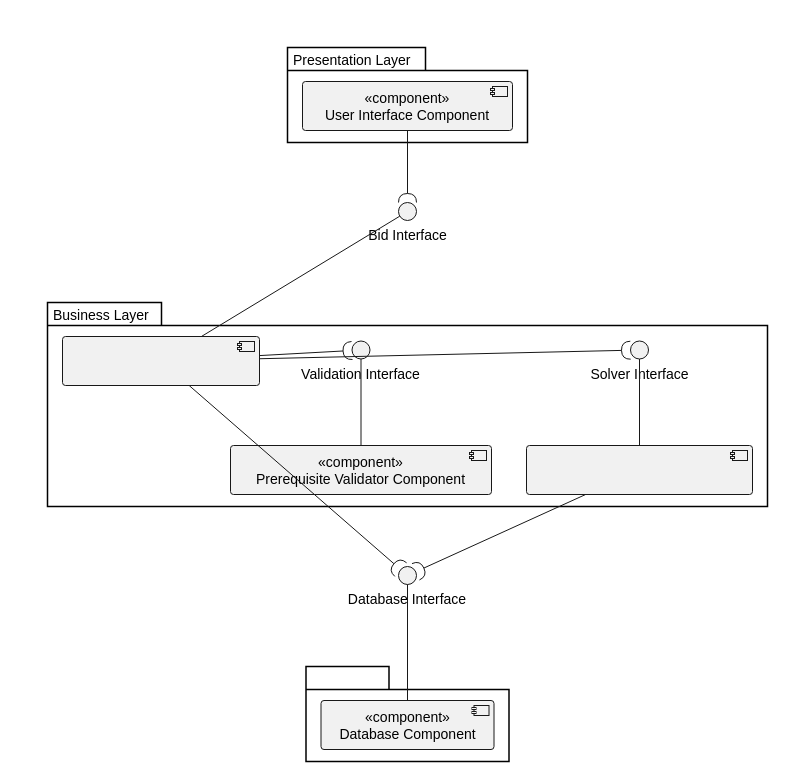
Image size: 785x779. Some labels were removed from this diagram. The shapes that lost their labels are listed below. From the top down, each one's box as (x1, y1, x2, y2) in pixels, then its label:
(62, 336, 260, 386): «component» Bid Manager Component
(526, 444, 752, 494): «component» Allocation Solver Component
(305, 665, 509, 762): Data Layer
